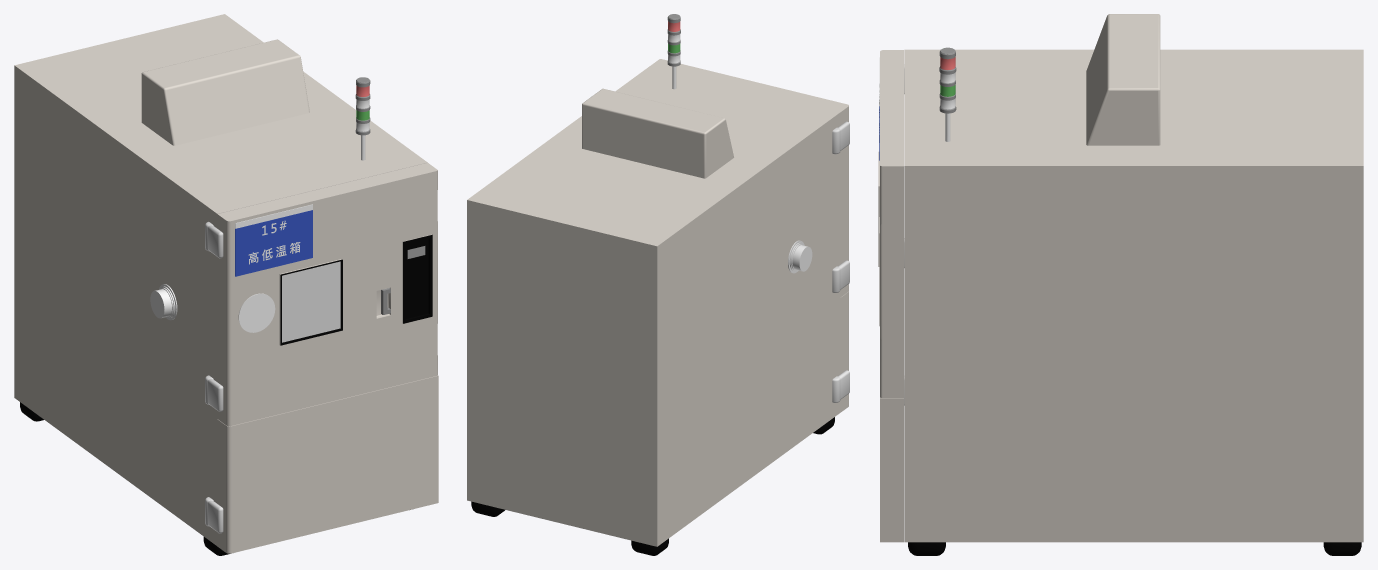
The model's file is YiQi.gltf.
3 renders of one model, left to right at view 1: azimuth 30°, elevation 25°; view 2: azimuth 150°, elevation 25°; view 3: azimuth 270°, elevation 25°, orthographic. The views are drawn at different scales.
Visible parts, largest first — view 1: 立方体_5, 立方体_1_2, 立方体_2_5, 立方体_2_2, 15_牌子_1, 立方体_2_3, 立方体_3_3, 15_设备状态牌子_1, 15_灯, 圆柱_2, 立方体_3_2; view 2: 立方体_5, 立方体_2_2, 立方体_1_2, 立方体_2_5, 15_灯, 圆柱_2; view 3: 立方体_5, 立方体_2_2, 立方体_1_2, 立方体_2_5, 15_灯.
Boxes of the visible parts, x1,y1,x2,y2 form: 立方体_5: (14,14,427,545); 立方体_1_2: (217,163,437,426); 立方体_2_5: (217,375,438,553); 立方体_2_2: (141,39,309,145); 15_牌子_1: (235,204,312,276); 立方体_2_3: (282,261,340,342); 立方体_3_3: (403,234,432,323); 15_设备状态牌子_1: (238,293,275,332); 15_灯: (355,77,370,135); 圆柱_2: (150,284,177,320); 立方体_3_2: (280,259,342,345); 立方体_5: (467,65,840,546); 立方体_2_2: (582,88,733,178); 立方体_1_2: (651,59,848,296); 立方体_2_5: (840,291,848,412); 15_灯: (667,14,680,66); 圆柱_2: (788,240,812,273); 立方体_5: (904,49,1363,542); 立方体_2_2: (1086,14,1160,145); 立方体_1_2: (878,50,903,397); 立方体_2_5: (880,397,903,542); 15_灯: (939,47,956,113).
Size of the model in its own units: 43.86 by 81 by 73.65.
